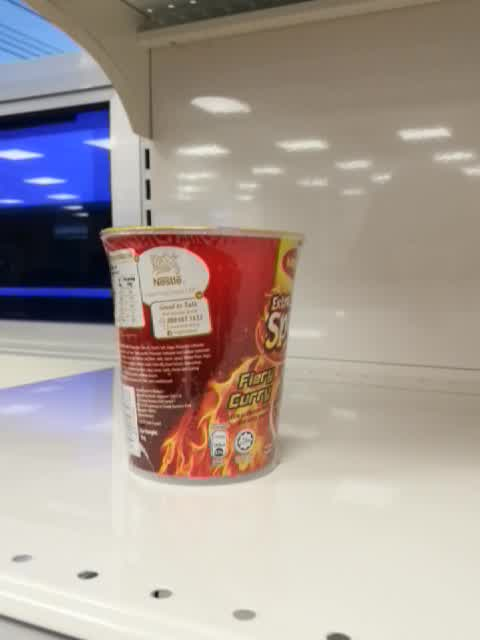maggi: (97, 226, 306, 485)
